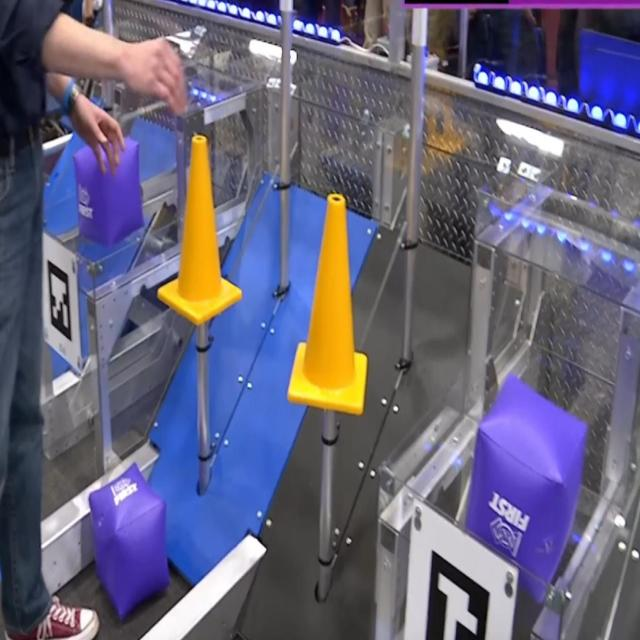frc_cone: (158, 126, 250, 328), (289, 194, 368, 416)
frc_cube: (464, 372, 586, 607), (86, 466, 169, 618), (74, 135, 145, 245)
